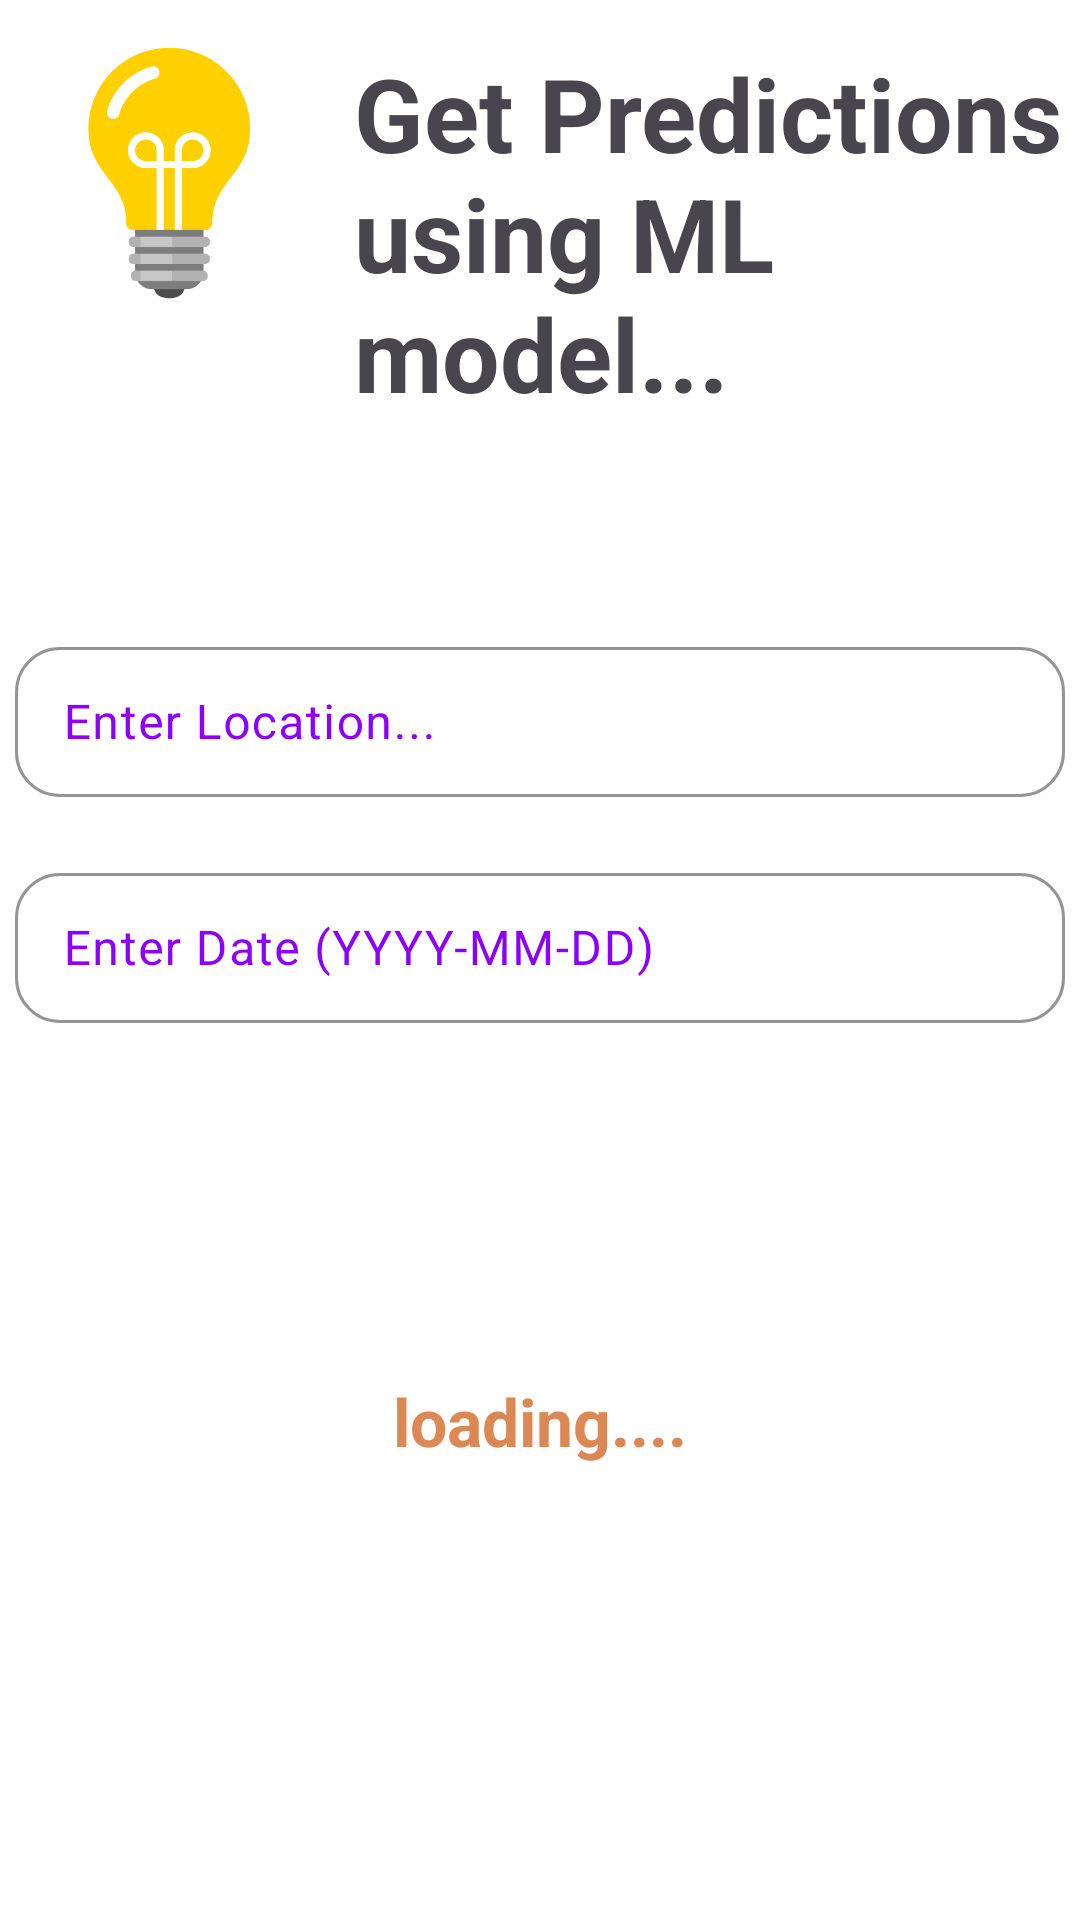

Screen size 1080px x 1920px. Icon name, then its center in pixels as (x=x, y=y):
bulb: (x=169, y=173)
